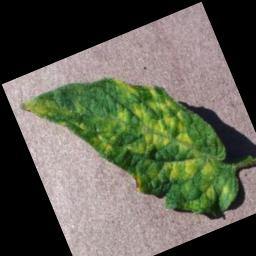Leaf_Mold: (69, 59, 206, 210), (18, 90, 60, 125), (125, 169, 148, 196), (198, 158, 221, 179)
